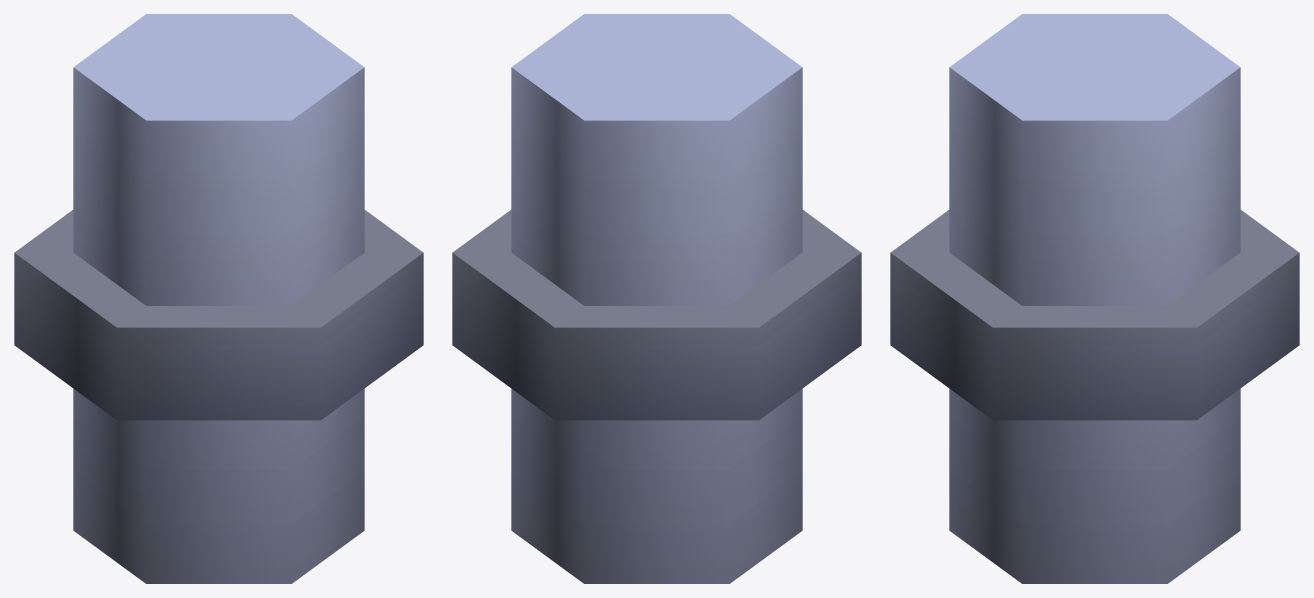
Rendered from core_pipe_ring.glb.
3 renders of one model, left to right at view 1: azimuth 30°, elevation 25°; view 2: azimuth 150°, elevation 25°; view 3: azimuth 270°, elevation 25°, orthographic.
Visible parts, largest first — view 1: pipe-ring; view 2: pipe-ring; view 3: pipe-ring.
Boxes of the visible parts, x1,y1,x2,y2 form: pipe-ring: (14,14,423,583); pipe-ring: (452,14,861,583); pipe-ring: (890,14,1299,583).
Size of the model in its own units: 0.3464 by 0.5 by 0.4.
Materials: 1 (1 with a texture image).
